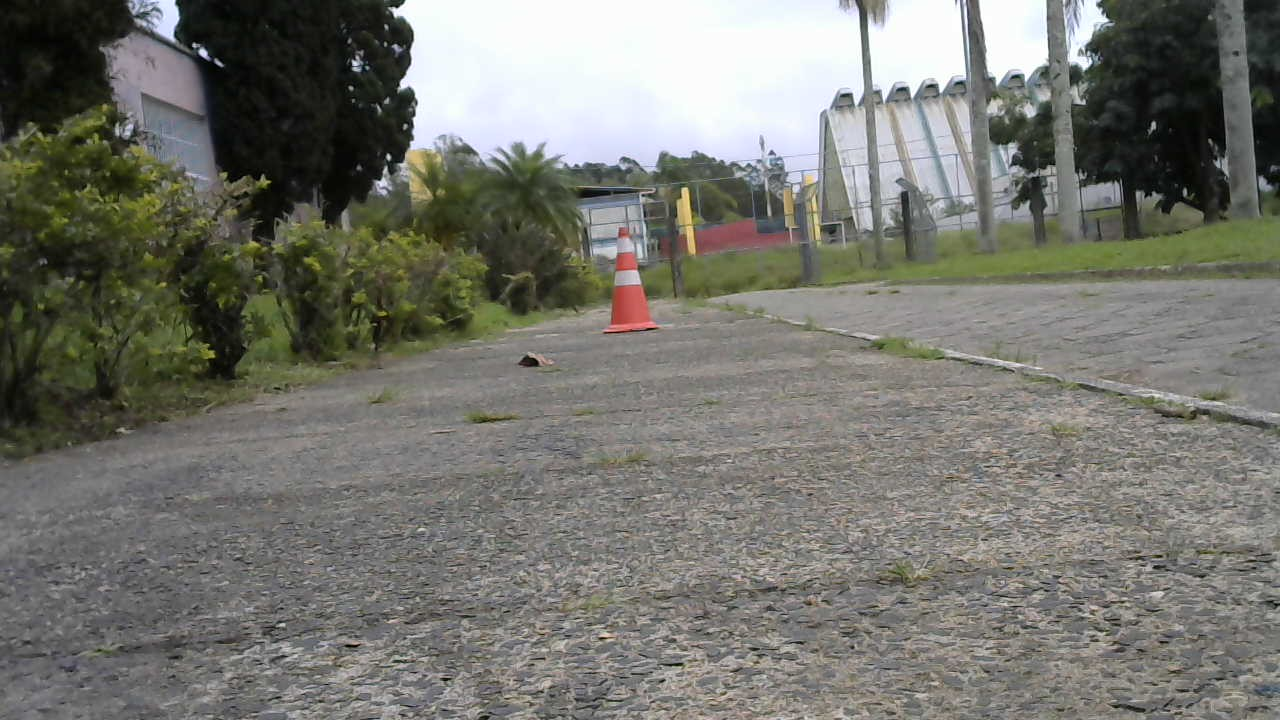cone: (606, 225, 655, 334)
